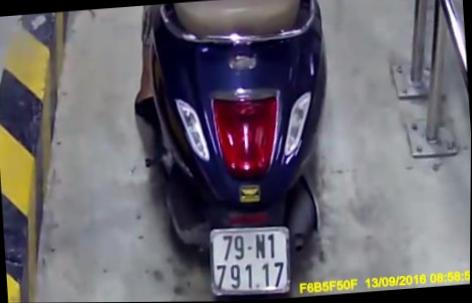LP: (208, 220, 294, 299)
